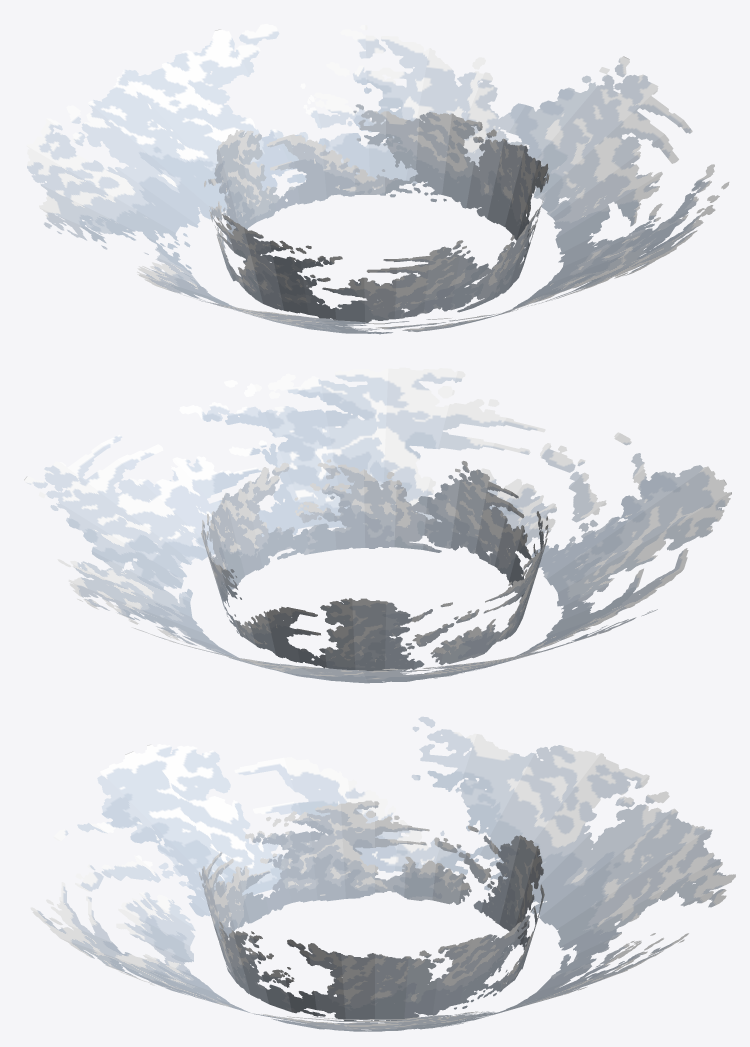
File: slclouds.obj
3 renders of one model, top to bottom at view 1: azimuth 30°, elevation 25°; view 2: azimuth 150°, elevation 25°; view 3: azimuth 270°, elevation 25°, orthographic.
Parts seen in each view (by area): view 1: Cylinder.001_Cylinder.002, Cylinder; view 2: Cylinder.001_Cylinder.002, Cylinder; view 3: Cylinder.001_Cylinder.002, Cylinder.
Part boxes in pixels (x1,y1,x2,y2): Cylinder.001_Cylinder.002: [26, 24, 729, 334]; Cylinder: [204, 104, 549, 323]; Cylinder.001_Cylinder.002: [24, 367, 731, 683]; Cylinder: [201, 459, 548, 670]; Cylinder.001_Cylinder.002: [30, 716, 735, 1031]; Cylinder: [199, 800, 544, 1020].
Bounding box in the file's own units: 464 × 68.2 × 464.
